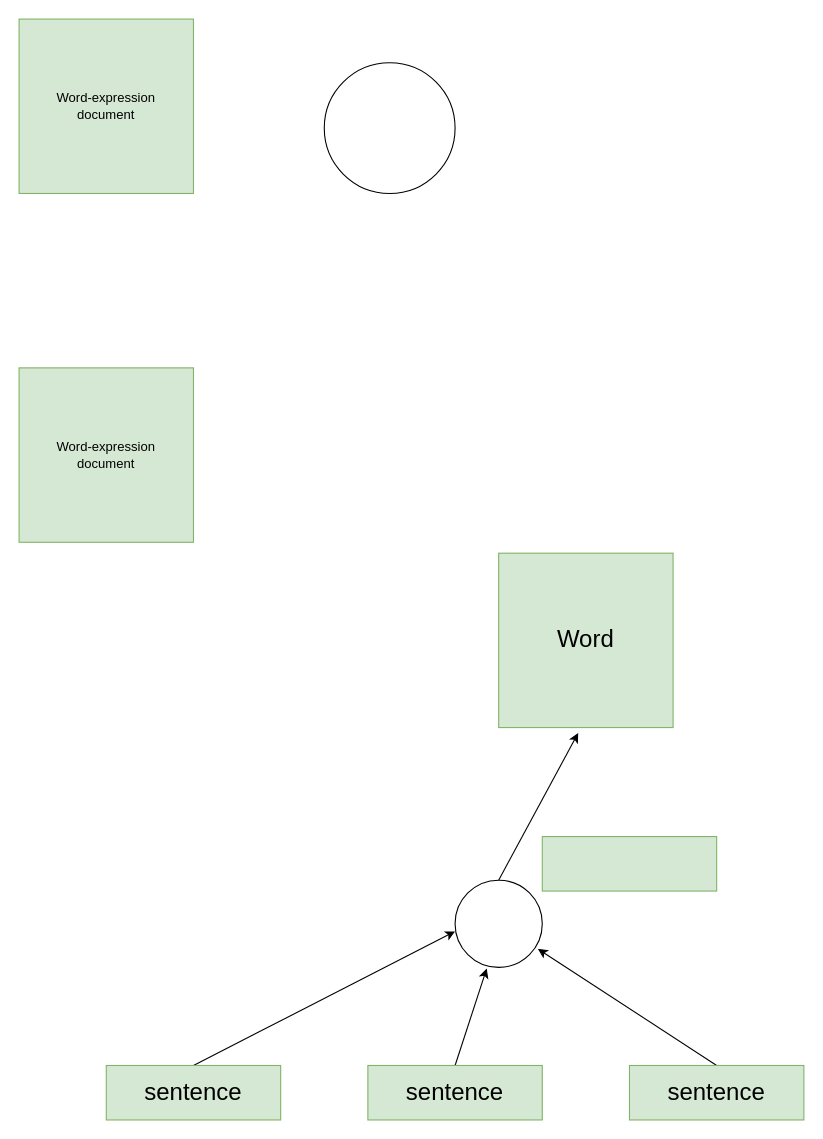
The diagram is 823 pixels wide and 1139 high, and some of its shapes have lost their labels. The centre of each missing label's shape, as x and y in pixels:
add information of word-expression: (x=389, y=127)
point: (x=498, y=923)
word-text: (x=629, y=863)
